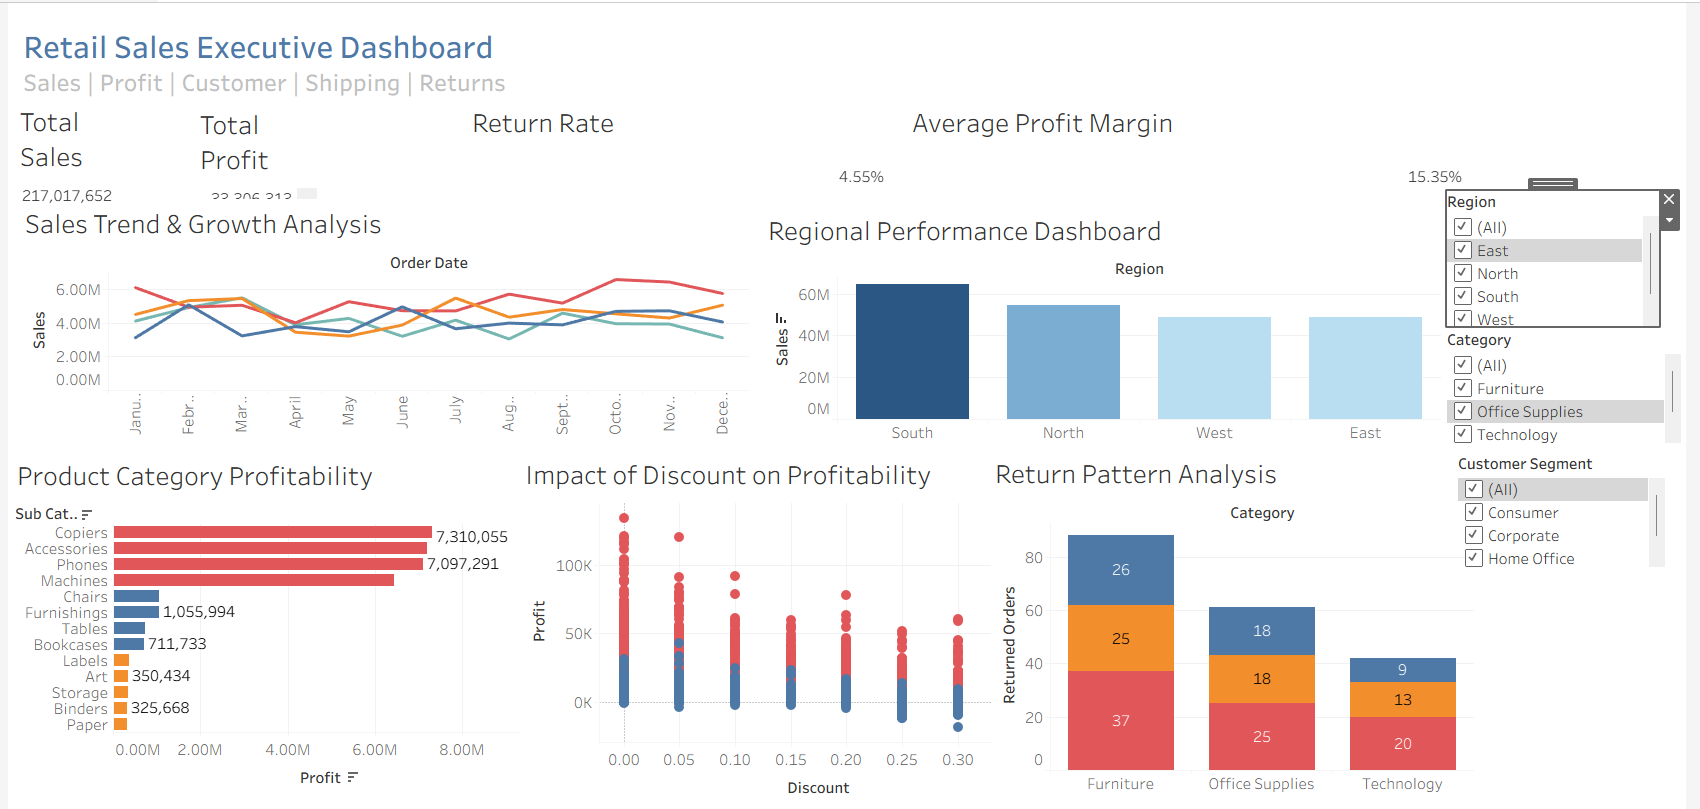

Layout of this report page (visuals, bound fields, positions):
{"tool":"tableau","page":{"name":"Dashboard 1","canvas":[1000,1000],"units":"permille","ordinal":0},"visuals":[{"type":"title","box":[4.8,9.9,990.5,125.2]},{"type":"worksheet","title":"KPI 1","mark":"Automatic","box":[4.8,119.9,332.7,136.3]},{"type":"worksheet","title":"KPI 4","mark":"Automatic","box":[274.4,121,250.5,126.9]},{"type":"worksheet","title":"KPI 3","mark":"Automatic","box":[536.3,121,332.7,126.9]},{"type":"worksheet","title":"KPI 2","mark":"Automatic","box":[111.9,123.4,332.7,119.9]},{"type":"filter","title":"Regional_Performance","param":"[federated.0at7kfx09w65li11gtrid1btg7by].[none:region:nk]","box":[857.6,232.7,126.2,168]},{"type":"worksheet","title":"Sales_Trend","mark":"Automatic","rows":["sales"],"cols":["order_date"],"box":[7.7,246.8,434,290.2]},{"type":"worksheet","title":"Regional_Performance","mark":"Automatic","rows":["sales"],"cols":["region"],"box":[450.3,255,403.4,291.4]},{"type":"filter","title":"Category_Profitability","param":"[federated.0at7kfx09w65li11gtrid1btg7by].[none:category:nk]","box":[857.6,404.2,139.6,141]},{"type":"worksheet","title":"Return_Analysis","mark":"Automatic","rows":["return_flag"],"cols":["category"],"box":[586,557,287.8,443]},{"type":"worksheet","title":"Discount_vs_Profit","mark":"Circle","rows":["profit"],"cols":["discount"],"box":[305.9,558.2,307.8,436]},{"type":"filter","title":"Return_Analysis","param":"[federated.0at7kfx09w65li11gtrid1btg7by].[none:customer_segment:nk]","box":[864.2,558.2,123.3,141]},{"type":"worksheet","title":"Category_Profitability","mark":"Automatic","rows":["sub_category"],"cols":["profit"],"box":[2.9,559.3,306.9,423]}]}

Visuals, with their boxes on the dashboard's canvas, which has no fixed pixel size, in thousandths of its width and height (x1, y1, x2, y2). These are canvas units, not pixel positions in the 1700x809 screenshot, which may show the page scaled, cropped or inside an application window:
title: <region>5, 10, 995, 135</region>
"KPI 1" worksheet: <region>5, 120, 338, 256</region>
"KPI 4" worksheet: <region>274, 121, 525, 248</region>
"KPI 3" worksheet: <region>536, 121, 869, 248</region>
"KPI 2" worksheet: <region>112, 123, 445, 243</region>
"Regional_Performance" filter: <region>858, 233, 984, 401</region>
"Sales_Trend" worksheet: <region>8, 247, 442, 537</region>
"Regional_Performance" worksheet: <region>450, 255, 854, 546</region>
"Category_Profitability" filter: <region>858, 404, 997, 545</region>
"Return_Analysis" worksheet: <region>586, 557, 874, 1000</region>
"Discount_vs_Profit" worksheet (Circle marks): <region>306, 558, 614, 994</region>
"Return_Analysis" filter: <region>864, 558, 988, 699</region>
"Category_Profitability" worksheet: <region>3, 559, 310, 982</region>
